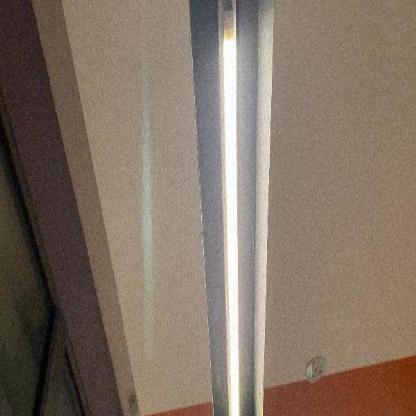light_on: (204, 0, 252, 415)
